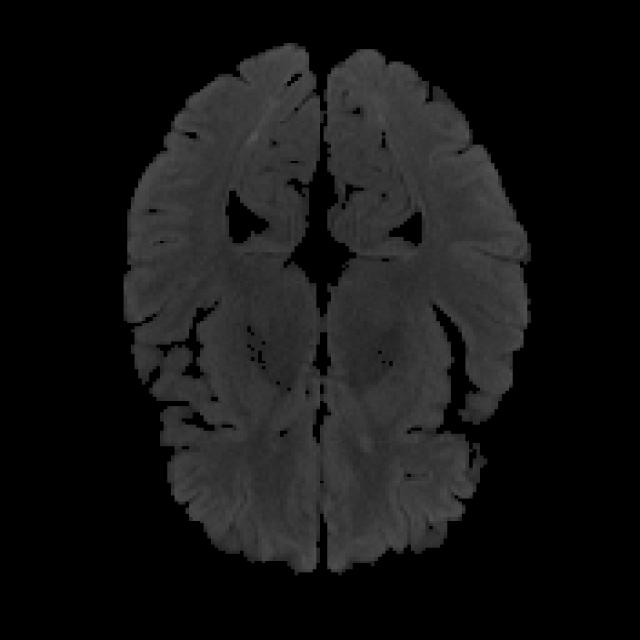CONTROL: (120, 40, 531, 572)
